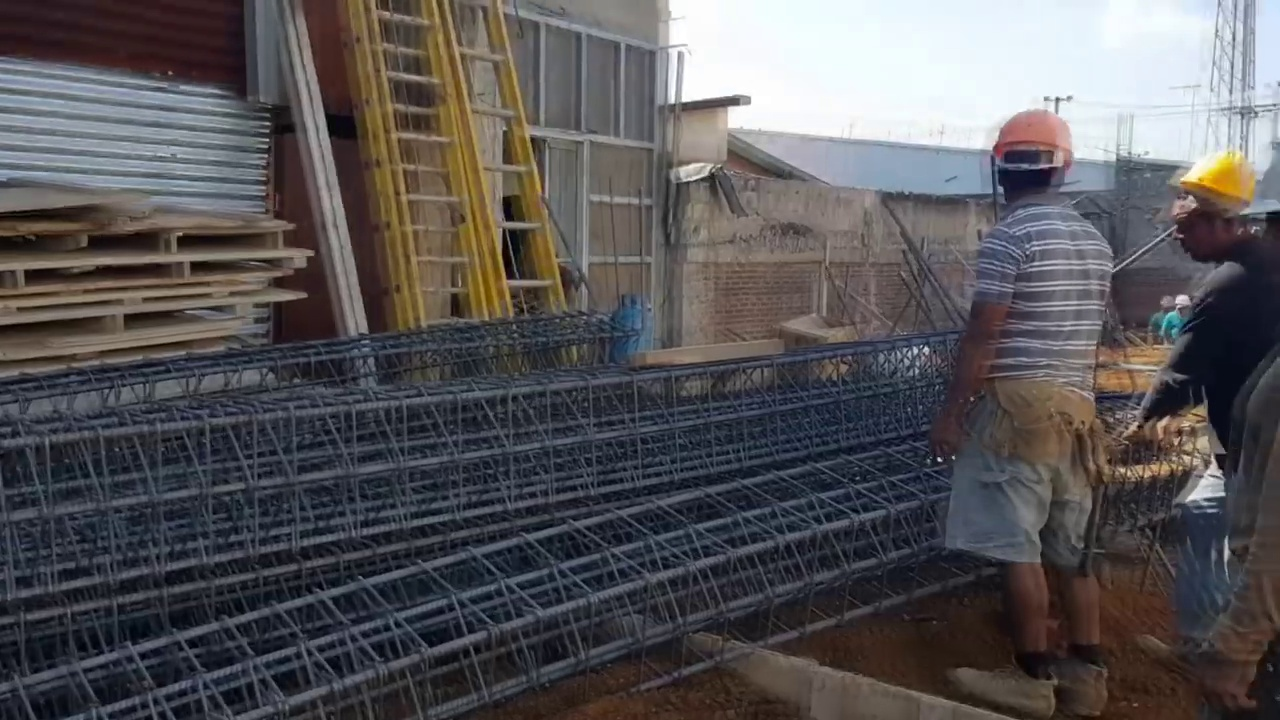helmet: (1167, 145, 1266, 207), (990, 107, 1084, 169), (1174, 298, 1192, 308)
helmet-on: (1166, 144, 1267, 265), (990, 106, 1082, 210), (1173, 296, 1194, 316)
person: (931, 107, 1124, 717), (1157, 134, 1278, 716), (1162, 293, 1198, 346)
